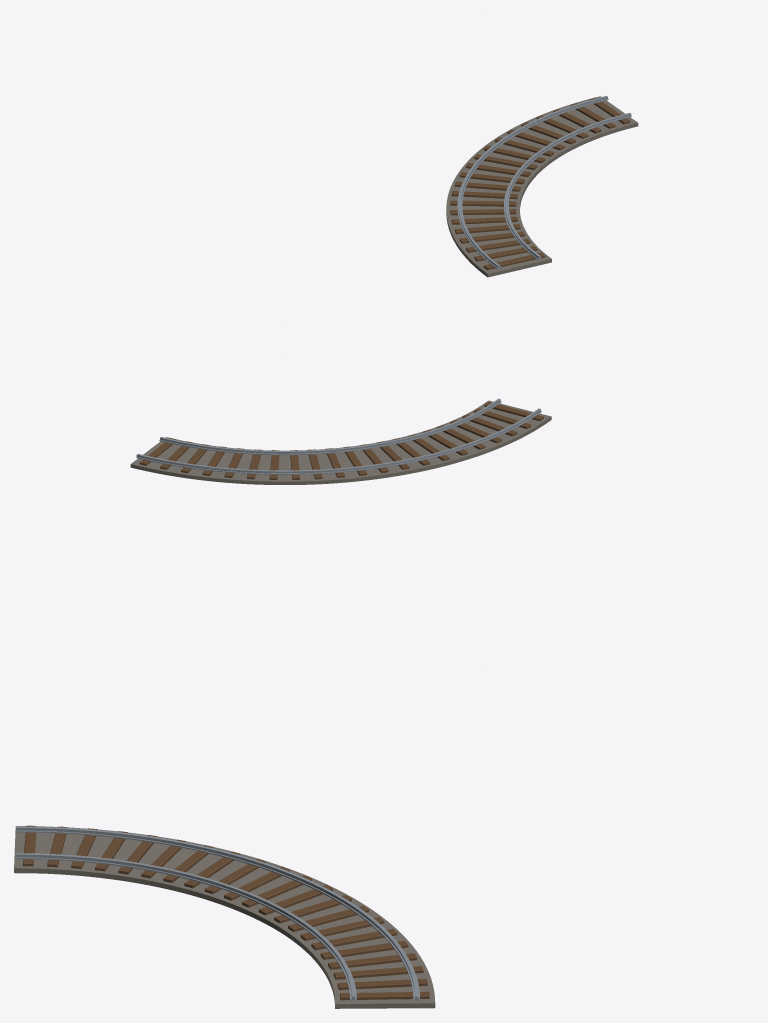
Rendered from rail_virage_tres_large.glb.
3 renders of one model, top to bottom at view 1: azimuth 30°, elevation 25°; view 2: azimuth 150°, elevation 25°; view 3: azimuth 270°, elevation 25°, orthographic. The views are drawn at different scales.
Visible parts, largest first — view 1: rail_ballast.016, rail_traverse.018, rail_rail.018; view 2: rail_ballast.016, rail_traverse.018, rail_rail.018; view 3: rail_ballast.016, rail_traverse.018, rail_rail.018.
Part boxes in pixels (x1,y1,x2,y2): rail_ballast.016: [446, 96, 638, 277]; rail_traverse.018: [450, 97, 630, 270]; rail_rail.018: [457, 96, 631, 269]; rail_ballast.016: [130, 400, 551, 484]; rail_traverse.018: [139, 402, 543, 479]; rail_rail.018: [136, 398, 541, 474]; rail_ballast.016: [14, 826, 435, 1008]; rail_traverse.018: [23, 825, 429, 1000]; rail_rail.018: [15, 826, 419, 1000].
Size of the model in its own units: 7.02 by 0.12 by 7.02.
